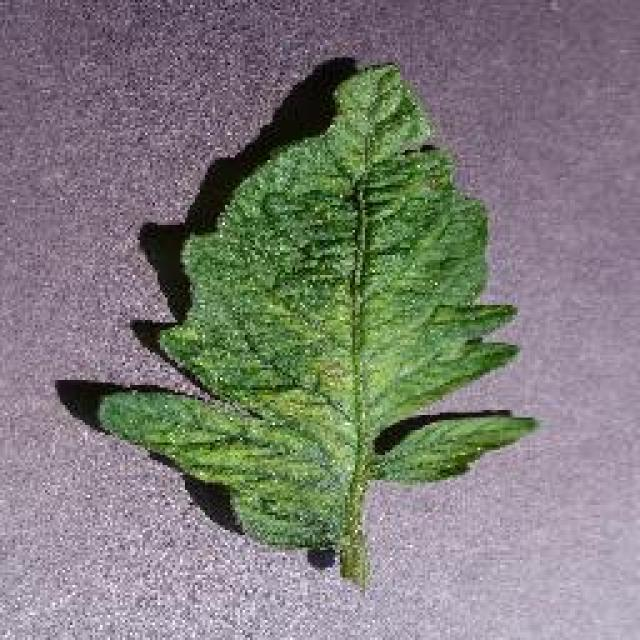Tom_mosaic_virus: (234, 284, 388, 548)
